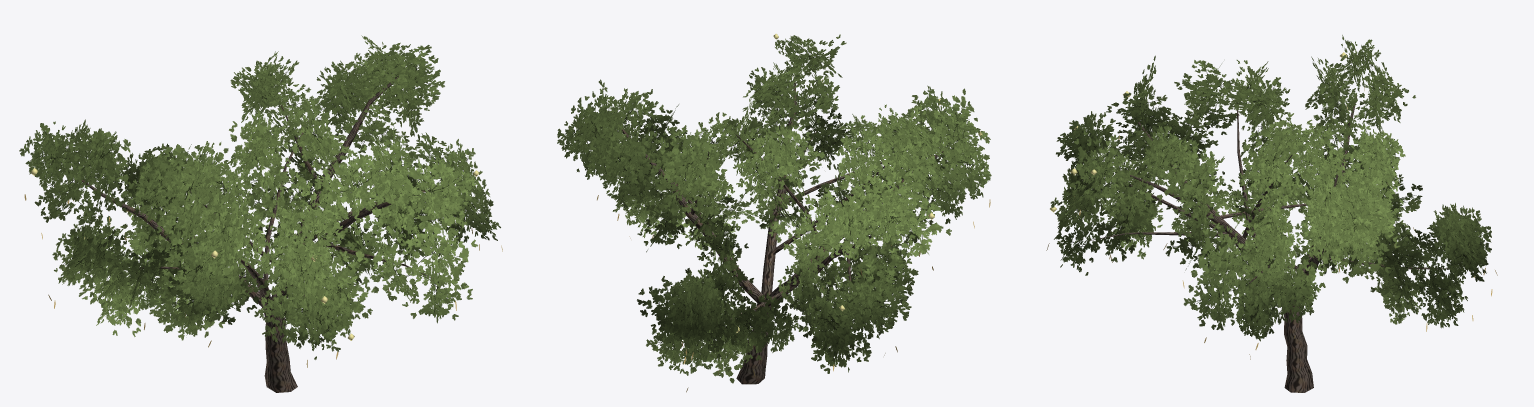
Rendered from adult-b.lod1.glb.
The picture shows the model from 3 angles, left to right: view 1: azimuth 30°, elevation 25°; view 2: azimuth 150°, elevation 25°; view 3: azimuth 270°, elevation 25°; orthographic projection. The views are drawn at different scales.
Parts seen in each view (by area): view 1: foliage, bark; view 2: foliage, bark; view 3: foliage, bark.
Boxes of the visible parts, x1,y1,x2,y2 form: foliage: (19, 35, 500, 359); bark: (82, 75, 431, 392); foliage: (557, 34, 991, 383); bark: (618, 82, 947, 384); foliage: (1050, 35, 1491, 341); bark: (1085, 94, 1449, 392).
Size of the model in its own units: 10.55 by 7.5 by 10.99.
Materials: 4 (2 with a texture image).
